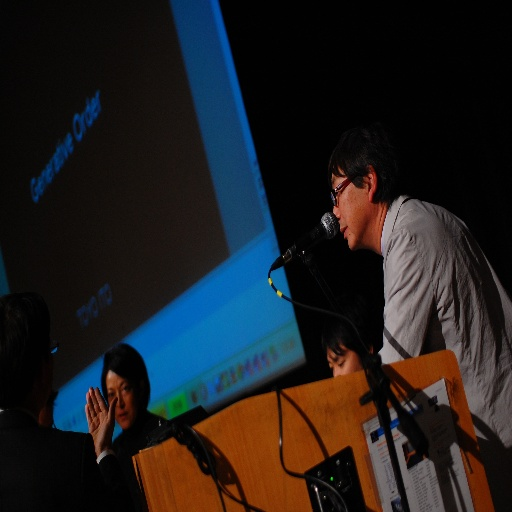hand: (77, 387, 120, 451)
